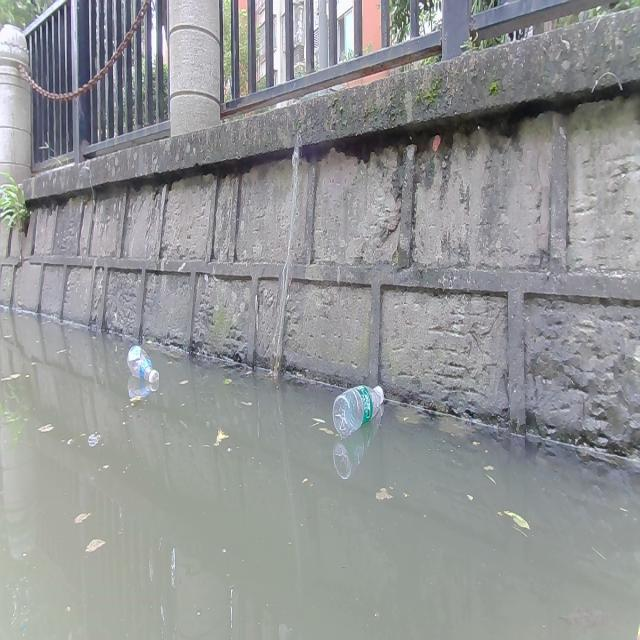bottle: (332, 382, 384, 435), (126, 345, 158, 383)
